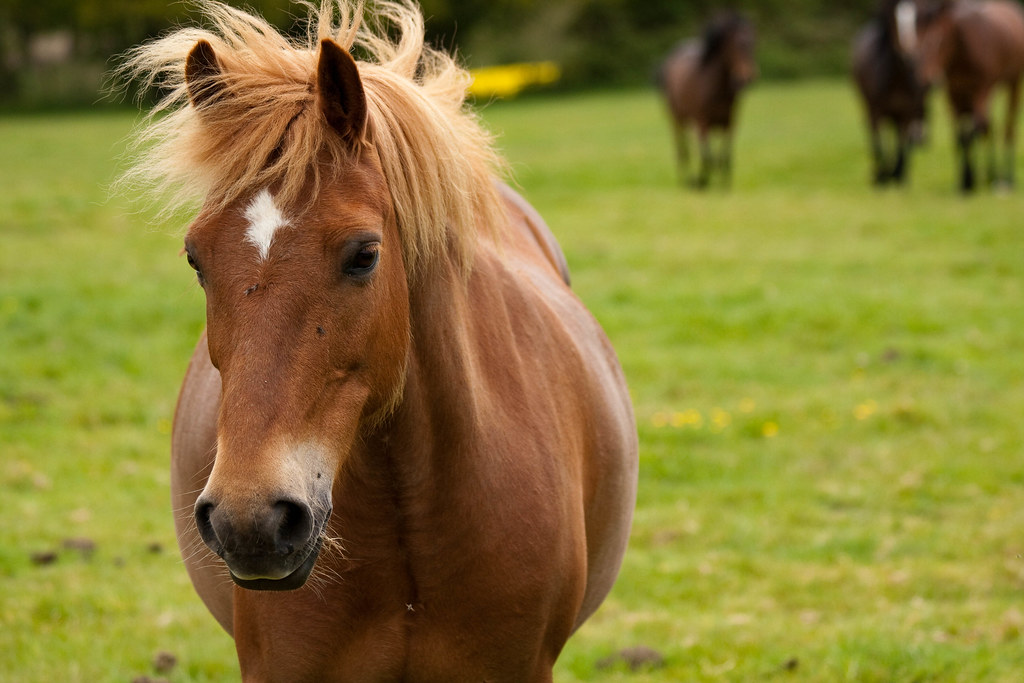horse: (81, 17, 627, 683)
